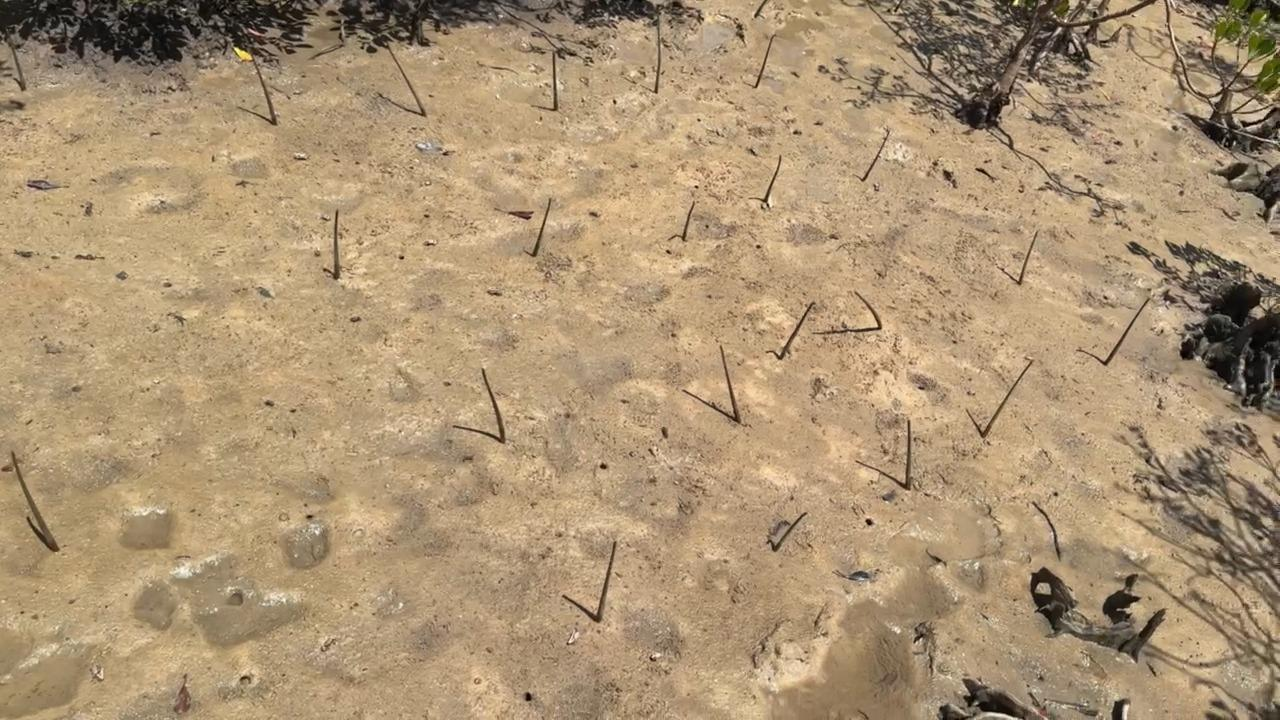Tree: (11, 450, 60, 553), (982, 360, 1034, 439), (1104, 298, 1152, 366), (387, 46, 427, 114), (247, 49, 277, 125), (780, 303, 815, 358), (594, 542, 618, 622), (481, 368, 505, 443), (719, 345, 742, 423), (4, 30, 28, 89), (774, 512, 808, 552), (863, 133, 890, 179), (854, 290, 883, 332), (755, 35, 775, 89), (1018, 231, 1038, 285), (534, 198, 551, 256), (763, 156, 782, 201), (682, 200, 695, 241), (904, 422, 911, 492), (333, 212, 340, 279), (655, 29, 661, 93), (553, 52, 559, 111), (755, 0, 767, 16)
